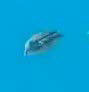smallfish: (17, 24, 61, 61)
